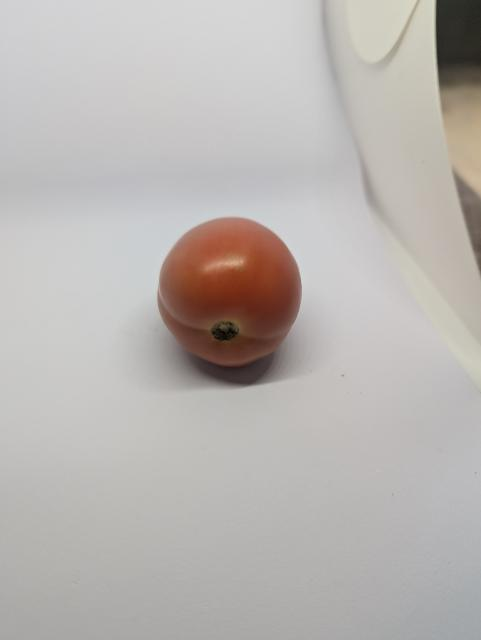red: (139, 201, 306, 388)
